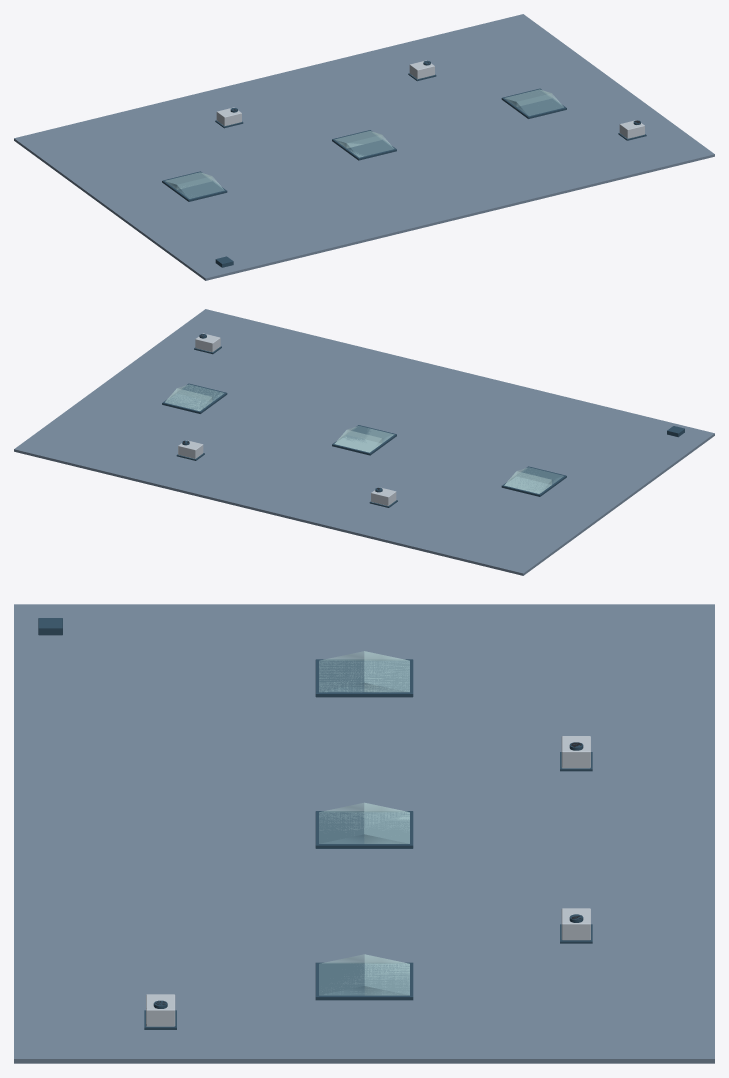
File: CM_Shell_Roof_Store.fbx
The picture shows the model from 3 angles, top to bottom: view 1: azimuth 30°, elevation 25°; view 2: azimuth 150°, elevation 25°; view 3: azimuth 270°, elevation 25°; orthographic projection. The views are drawn at different scales.
Visible parts, largest first — view 1: Roof, Glass; view 2: Roof, Glass; view 3: Roof, Glass.
Boxes of the visible parts, x1,y1,x2,y2 form: Roof: (14, 14, 714, 280); Glass: (165, 89, 563, 198); Roof: (14, 309, 714, 575); Glass: (165, 384, 563, 493); Roof: (14, 604, 714, 1063); Glass: (319, 651, 409, 995).
Bounding box in the file's own units: 132 × 86 × 3.6.
2 materials, 2 textured.
